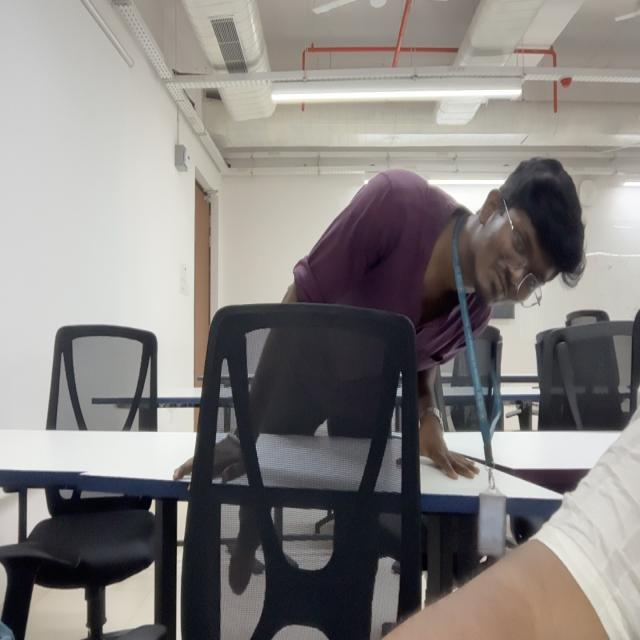ravindra: (471, 156, 586, 317)
